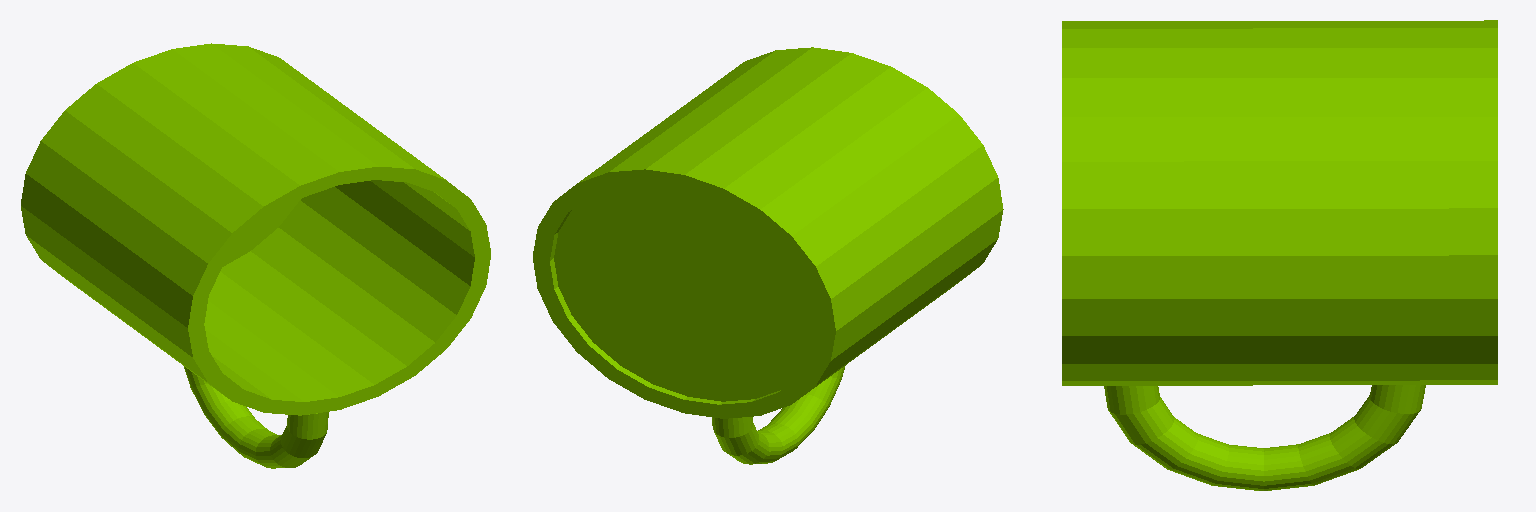
URDF robot description (cube.urdf):
<?xml version="0.0" ?>
<robot name="cube.urdf">
  <link name="baseLink">
    <contact>
      <lateral_friction value="2.0"/>
      <inertia_scaling value="3.0"/>
    </contact>
    <inertial>
      <origin rpy="0 0 0" xyz="0 0 0"/>
       <mass value=".05"/>
       <inertia ixx="1" ixy="0" ixz="0" iyy="1" iyz="0" izz="1"/>
    </inertial>
    <visual>
      <origin rpy="3.14 3.14 0" xyz="0 0 -0.1"/>
      <geometry>
        <mesh filename="cup.obj" scale="0.008 0.008 0.006"/>
      </geometry>
       <material name="white">
        <color rgba="0.54 0.8 0 1"/>
      </material>
    </visual>
    <collision>
      <origin rpy="3.14 3.14 0" xyz="0 0 -0.1"/>
      <geometry>
        <mesh filename="cup.obj" scale="0.008 0.008 0.006"/>
      </geometry>
    </collision>
  </link>

  <material name="panda_white">
    <color rgba="1. 1. 1. 1."/>
  </material>
  <material name="red">
    <color rgba="1.0 0. 0. 1.0"/>
  </material>
  <material name="blue">
    <color rgba="0. 0. 1. 1.0"/>
  </material>
  <material name="green">
    <color rgba="0. 1. 0. 1.0"/>
  </material>
<material name="Yellow">
  <color rgba="0.949 0.878 0.0392 1.0"/>
</material>
<material name="Blue">
  <color rgba="0.12156 0.3804 0.6745 1.0"/>
</material>
<material name="Red">
  <color rgba="0.9254901 0.243137 0.086274509 1.0"/>
</material>

</robot>

--- What the picture shows (computed from the rendered views, not written in the file) ---
Views: 3 orthographic renders of the robot side by side, from view 1: azimuth 30°, elevation 25°; view 2: azimuth 150°, elevation 25°; view 3: azimuth 270°, elevation 25°.
Model cube.urdf with 1 links and 0 joints (none), rooted at baseLink, posed all joints at 0.
Visible links, largest first — view 1: baseLink; view 2: baseLink; view 3: baseLink.
Link boxes in pixels (left/top/right/bottom): baseLink: left=21, top=43, right=490, bottom=468; baseLink: left=533, top=47, right=1003, bottom=464; baseLink: left=1062, top=20, right=1497, bottom=490.
Bounding box of the posed robot: 0.0304 × 0.0291 × 0.0327 m (x, y, z).
Meshes: 1 distinct files referenced, 1 mesh visuals loaded (1 OBJ).